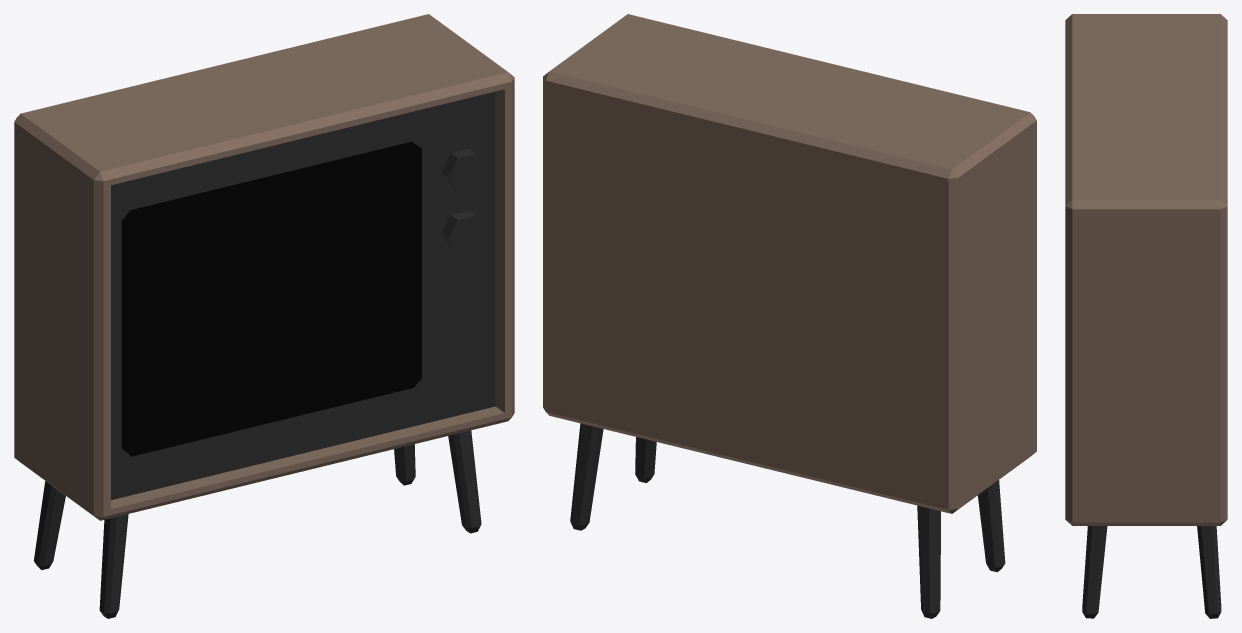
3 renders of one model, left to right at view 1: azimuth 30°, elevation 25°; view 2: azimuth 150°, elevation 25°; view 3: azimuth 270°, elevation 25°, orthographic. The views are drawn at different scales.
Parts seen in each view (by area): view 1: polySurface2, polySurface1; view 2: polySurface2; view 3: polySurface2.
Boxes of the visible parts, left/top/right/bottom form: polySurface2: left=14, top=14, right=514, bottom=618; polySurface1: left=121, top=141, right=421, bottom=456; polySurface2: left=543, top=14, right=1036, bottom=618; polySurface2: left=1065, top=14, right=1227, bottom=618.
Size of the model in its own units: 99 by 103 by 35.4.
